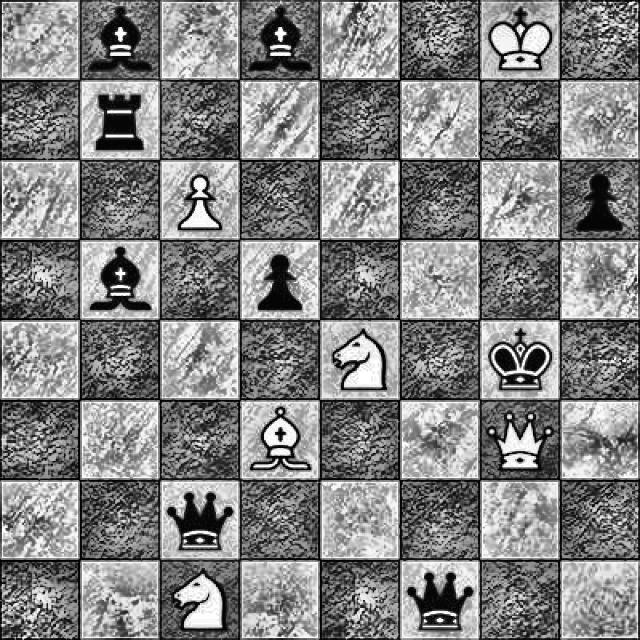black bishop: (80, 2, 156, 79), (80, 244, 155, 318), (244, 4, 315, 79)
black king: (483, 322, 558, 401)
black pawn: (238, 242, 320, 318), (564, 163, 638, 241)
black queen: (402, 562, 478, 640), (164, 484, 234, 554)
black rook: (82, 81, 161, 159)
white bishop: (242, 401, 318, 479)
white king: (482, 1, 558, 78)
white pawn: (160, 164, 235, 233)
white queen: (482, 401, 557, 476)
whiteknight: (323, 320, 396, 398), (169, 562, 232, 636)
